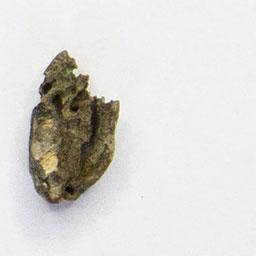defect: (23, 48, 123, 206)
